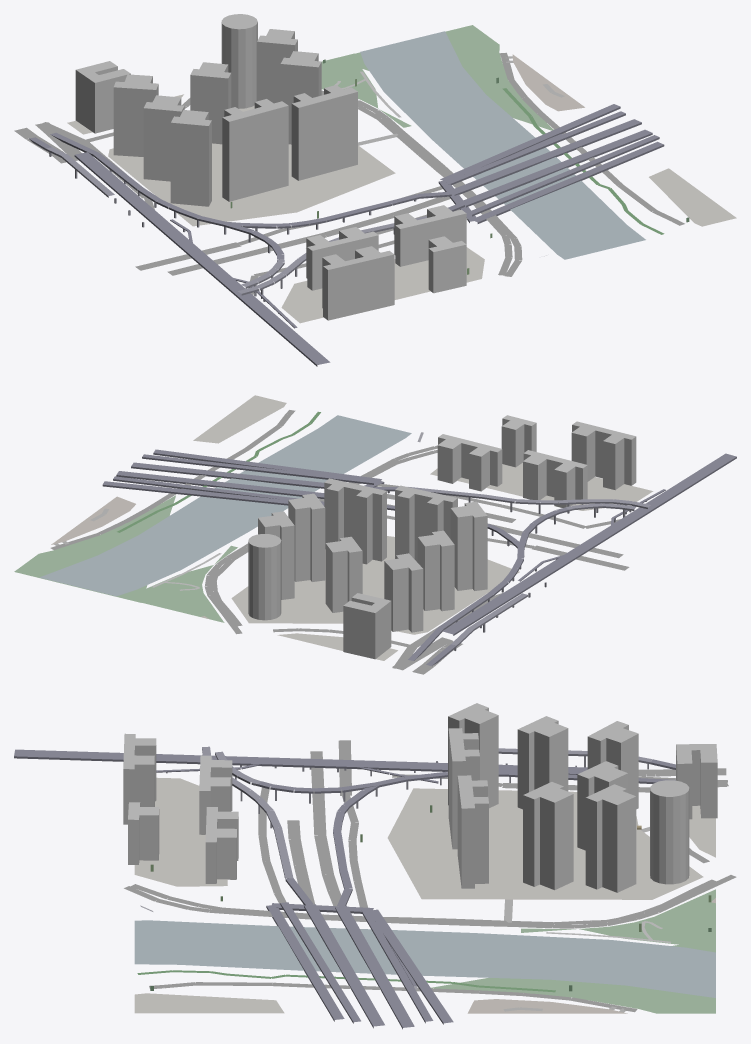
The picture shows the model from 3 angles, top to bottom: view 1: azimuth 30°, elevation 25°; view 2: azimuth 150°, elevation 25°; view 3: azimuth 270°, elevation 25°; orthographic projection. The views are drawn at different scales.
Size of the model in its own units: 580 by 87.49 by 622.
